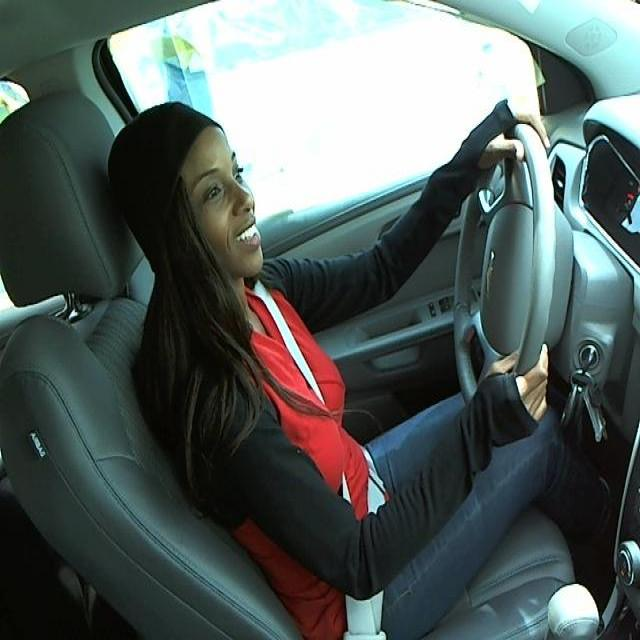without_using_phone: (82, 64, 326, 373)
